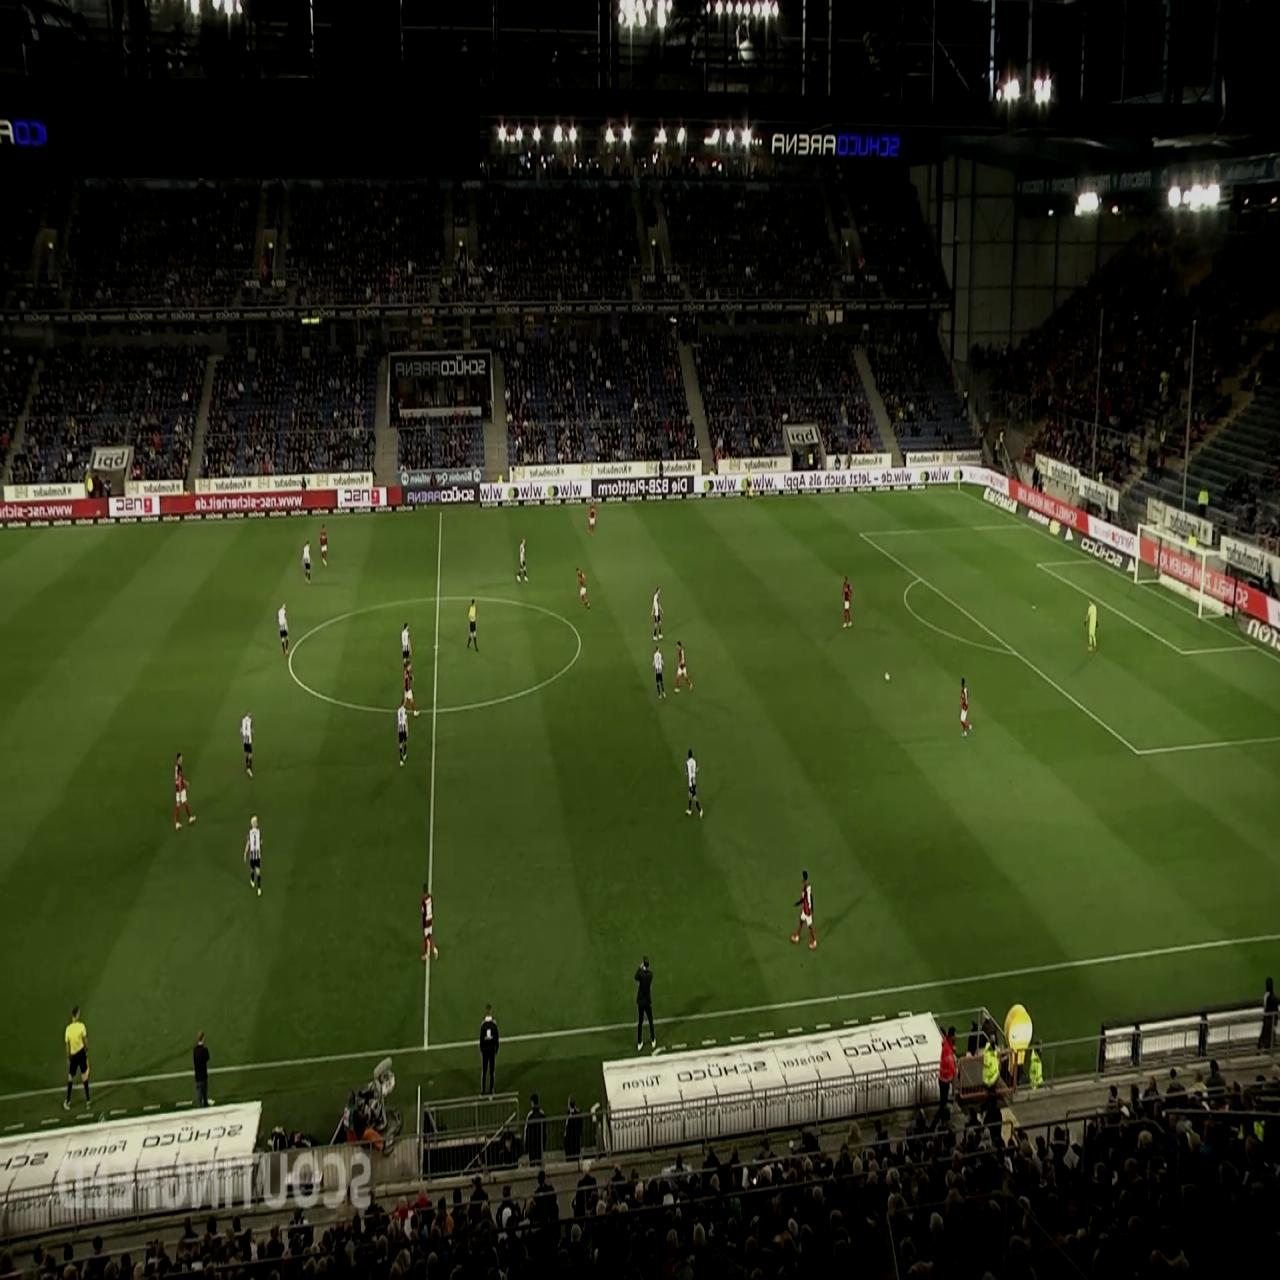ball: (883, 669, 891, 684)
goalkeeper: (1083, 598, 1098, 654)
player: (790, 869, 817, 949), (174, 751, 196, 830), (243, 814, 262, 894), (420, 882, 439, 961), (685, 748, 703, 819), (674, 641, 693, 692), (240, 710, 253, 779), (396, 696, 408, 767), (960, 677, 973, 738), (403, 665, 418, 716), (653, 644, 666, 699), (277, 602, 289, 658), (652, 584, 664, 639), (515, 536, 528, 584), (576, 567, 590, 609), (401, 621, 412, 671), (842, 575, 852, 628), (586, 495, 598, 538), (302, 540, 313, 584), (319, 522, 328, 568)
referee: (63, 1004, 91, 1111), (466, 596, 479, 652), (743, 462, 754, 500)
